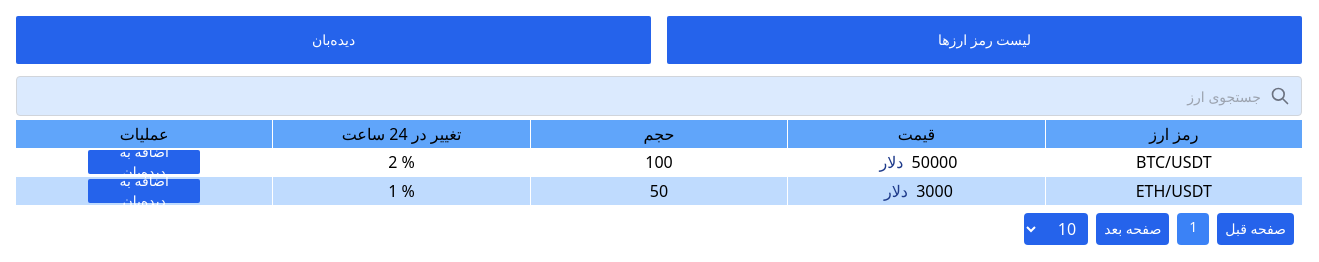
Test: App › filters table data based on searchbar input
This screenshot has width=1319, height=262.
Type "eth" into the search field with placeholder "جستجوی ارز".
click(659, 96); type("eth")  # box [16, 76, 1302, 116]
Wait 400 ms
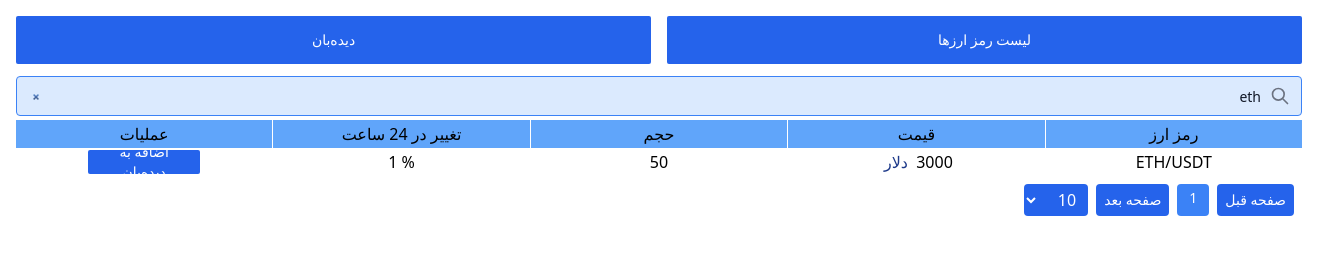
Expected: the text "ETH/USDT" is shown, [1046, 148, 1302, 176]
Expected: the text "BTC/USDT" is gone
